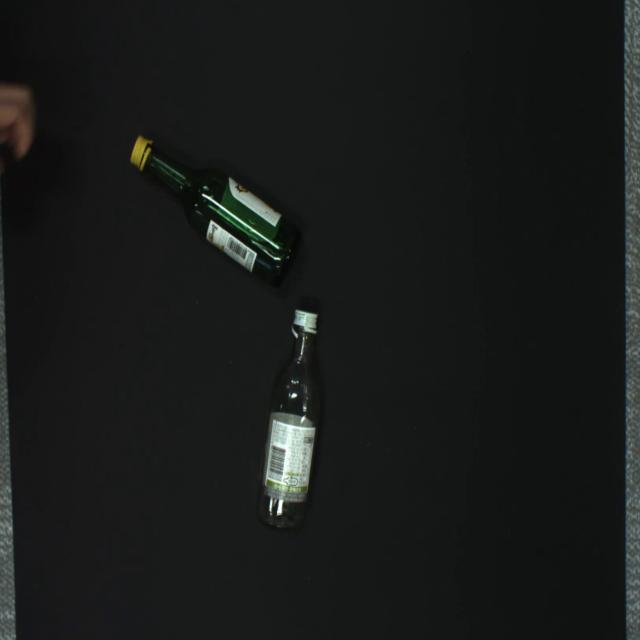soju-bottle: (130, 134, 300, 283), (255, 309, 322, 532)
